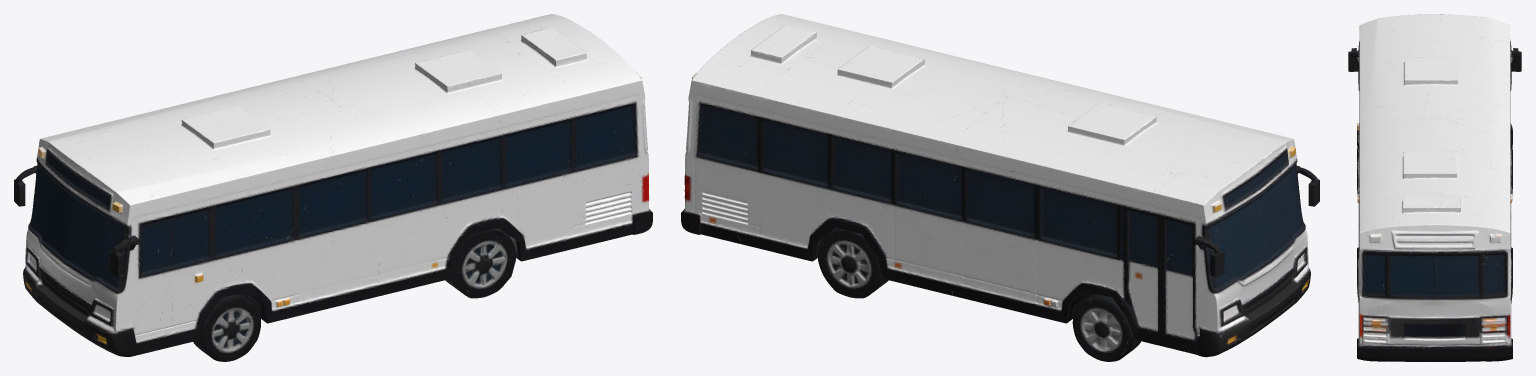
The model's file is bus.glb.
3 views of the same model, side by side, from view 1: azimuth 30°, elevation 25°; view 2: azimuth 150°, elevation 25°; view 3: azimuth 270°, elevation 25° (orthographic). The views are drawn at different scales.
Bounding box in the file's own units: 1.9 × 0.6473 × 0.6192.
Materials: 1 (1 with a texture image).
